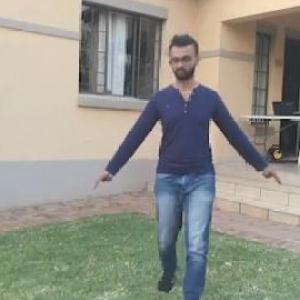land: (95, 26, 284, 295)
